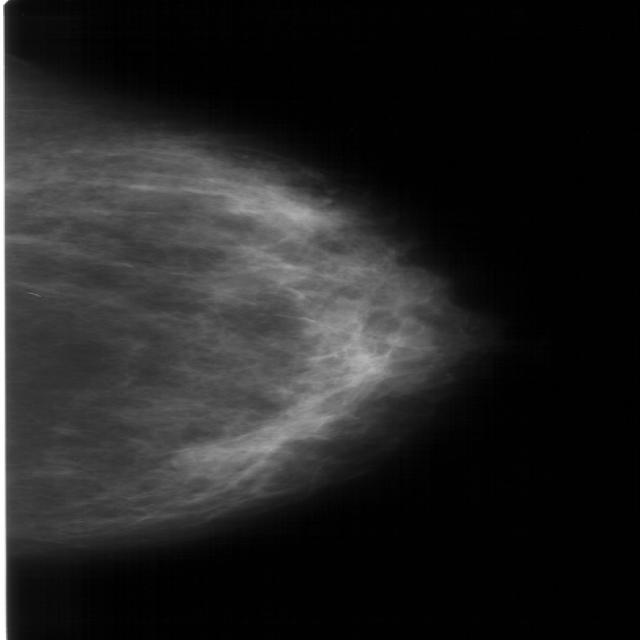tumour: (235, 426, 286, 452)
